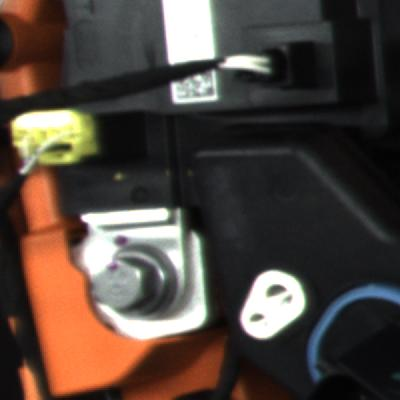nut_b: (80, 239, 185, 330)
